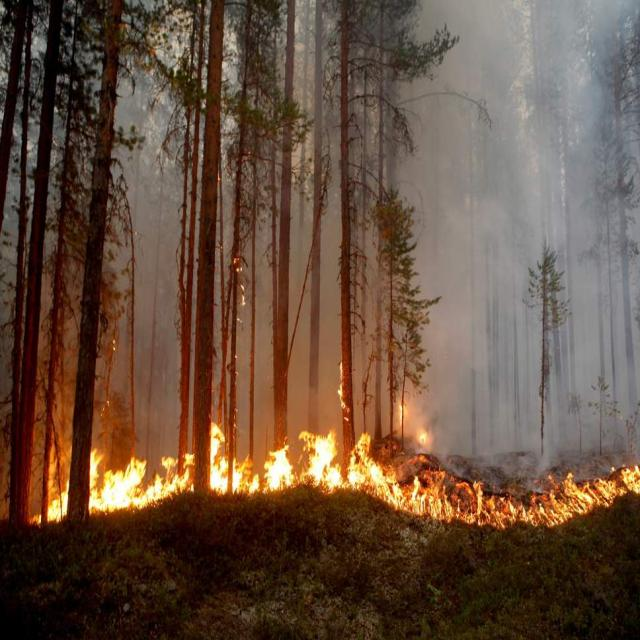fire: (350, 431, 529, 527), (210, 421, 346, 496), (88, 449, 195, 513), (535, 465, 640, 519), (49, 483, 70, 523)
smoke: (422, 10, 634, 405), (126, 97, 179, 420)
